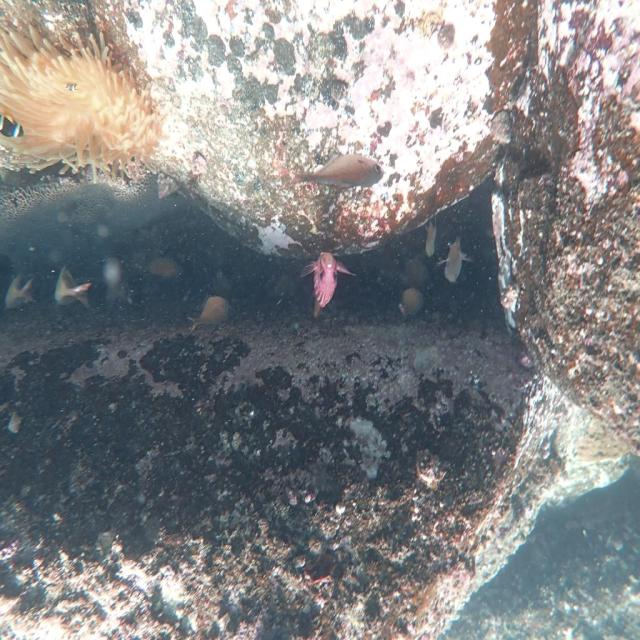Asker Baligi: (296, 242, 358, 331)
